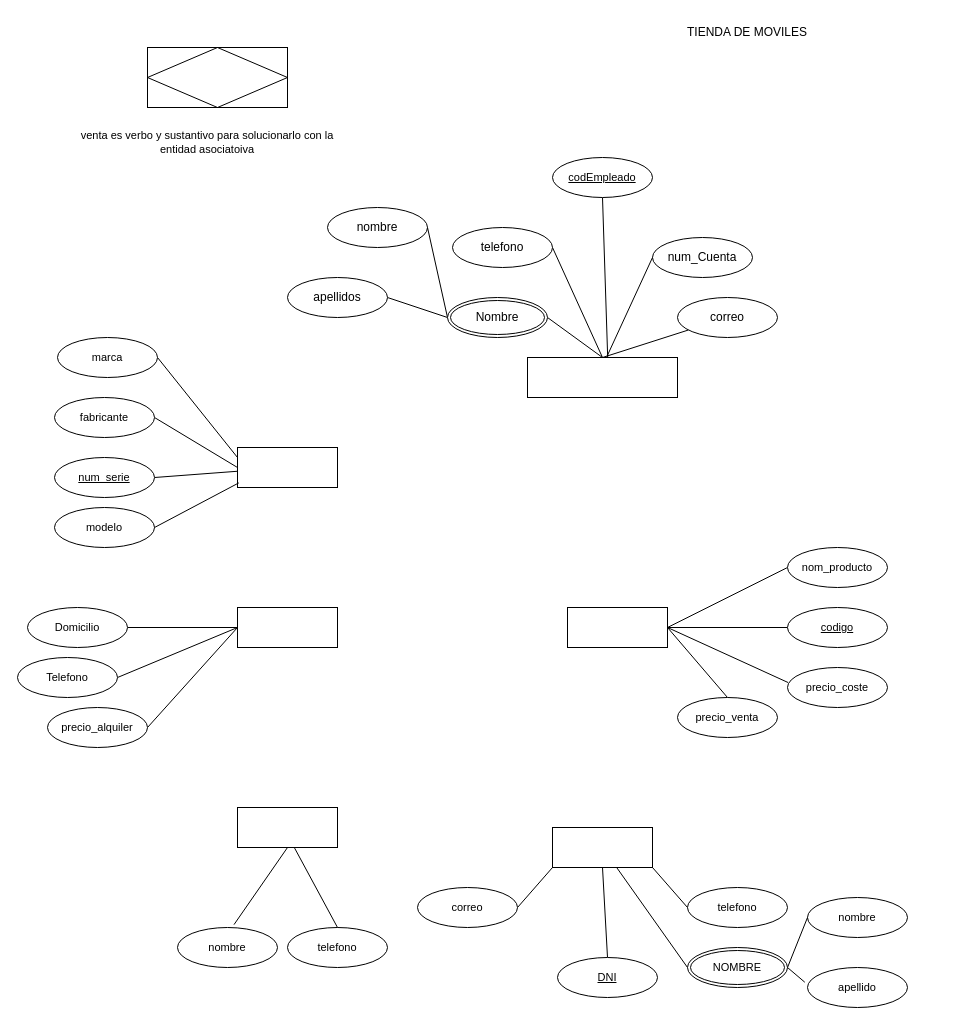
Image size: 960x1025. Some labels were removed from this diagram. The shapes that lost their labels are listed below. From the top down, each one's centre as x and y in pixels, then its label:
(x=217, y=77): Associative Entity
(x=602, y=377): EMPLEADO_VENDEDOR
(x=287, y=467): MOVIL
(x=287, y=627): TEINDA
(x=617, y=627): VENTAS
(x=287, y=827): PROVEEDOR
(x=602, y=847): CLEINTE
